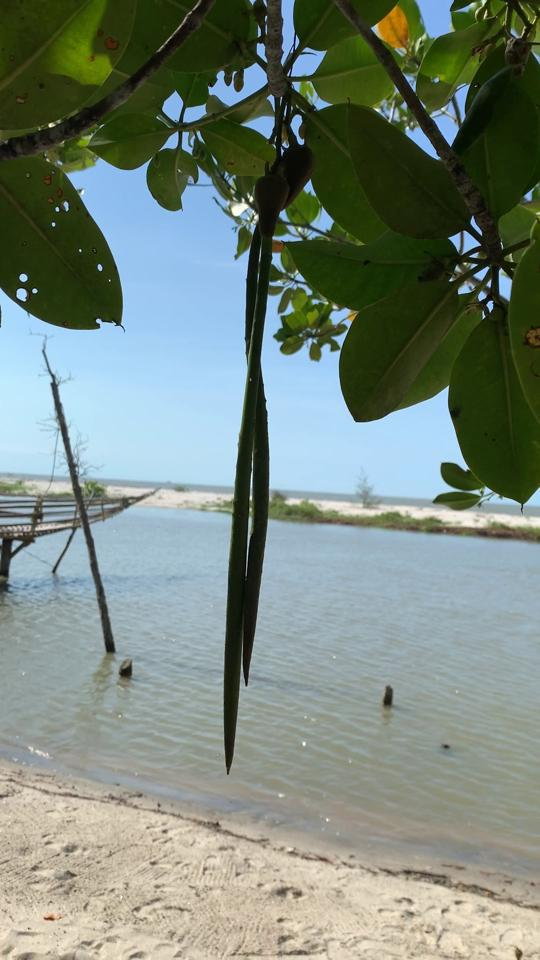setengah matang: (209, 129, 325, 781)
